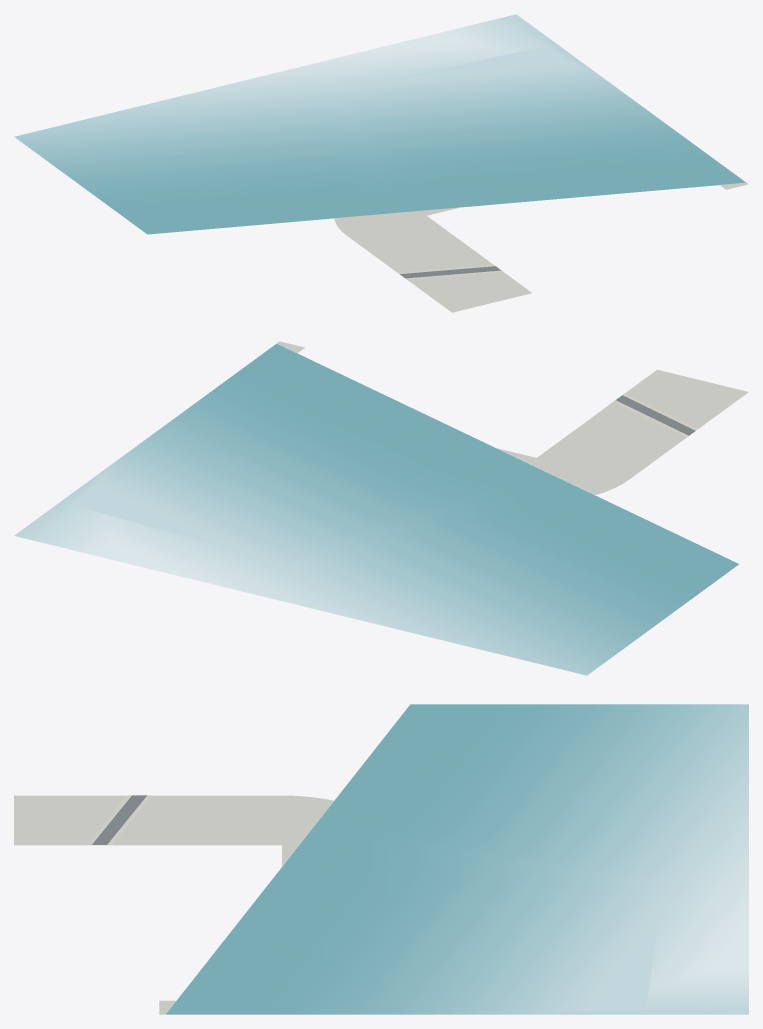
3 renders of one model, top to bottom at view 1: azimuth 30°, elevation 25°; view 2: azimuth 150°, elevation 25°; view 3: azimuth 270°, elevation 25°, orthographic. The views are drawn at different scales.
Parts seen in each view (by area): view 1: city; view 2: city; view 3: city.
Part boxes in pixels (left/top/right/bottom): city: left=14, top=14, right=748, bottom=312; city: left=14, top=341, right=748, bottom=675; city: left=14, top=704, right=748, bottom=1014.
Size of the model in its own units: 500 by 0.4 by 500.
